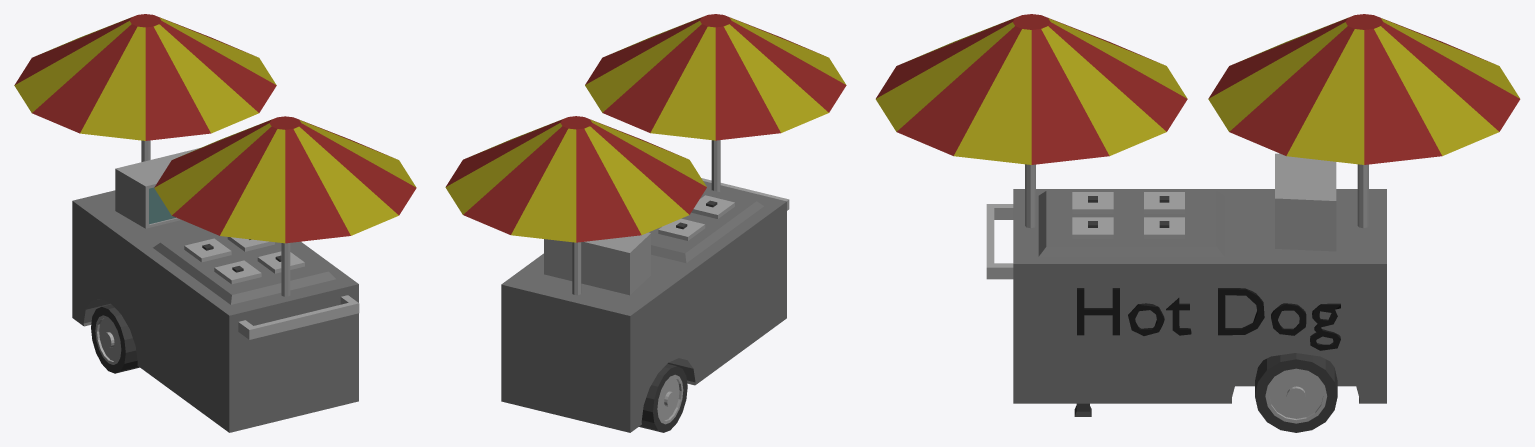
Rendered from HotDogStand.fbx.
3 views of the same model, side by side, from view 1: azimuth 30°, elevation 25°; view 2: azimuth 150°, elevation 25°; view 3: azimuth 270°, elevation 25° (orthographic). The views are drawn at different scales.
Parts seen in each view (by area): view 1: Cube, Cone.002, Cone.001, Cube.004, Cylinder.001, Cube.003; view 2: Cube, Cone.001, Cone.002, Cube.004, Cylinder.001; view 3: Cube, Cone.001, Cone.002, Cube.004, Cylinder.002, Cube.003.
Boxes of the visible parts, x1,y1,x2,y2 form: Cube: (72, 190, 358, 432); Cone.002: (154, 116, 416, 296); Cone.001: (14, 14, 276, 161); Cube.004: (115, 147, 200, 228); Cylinder.001: (91, 304, 139, 373); Cube.003: (238, 295, 359, 339); Cube: (501, 181, 786, 432); Cone.001: (445, 116, 706, 295); Cone.002: (585, 14, 846, 191); Cube.004: (544, 232, 650, 295); Cylinder.001: (639, 364, 687, 432); Cube: (1013, 189, 1386, 403); Cone.001: (1208, 14, 1520, 228); Cone.002: (875, 14, 1187, 228); Cube.004: (1275, 153, 1336, 251); Cylinder.002: (1255, 353, 1337, 432); Cube.003: (986, 204, 1013, 279).
Size of the model in its own units: 263 by 346 by 542.
